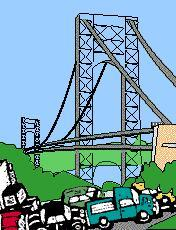car: (82, 187, 159, 227), (23, 203, 86, 229), (55, 186, 114, 207)
